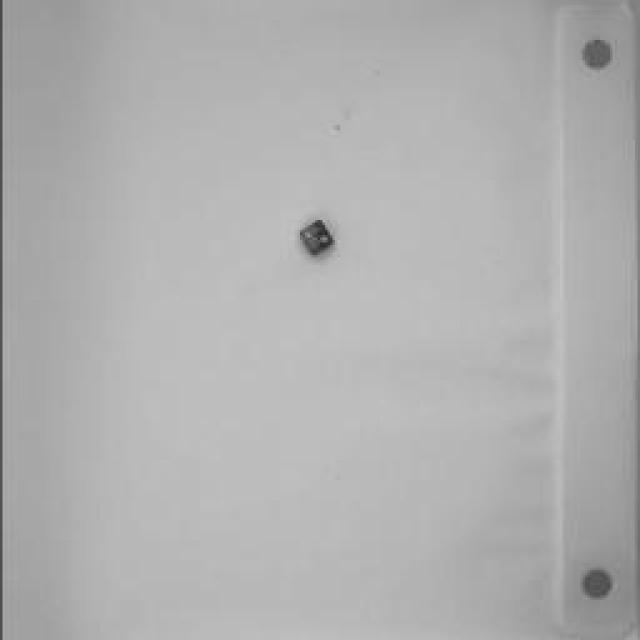dice_2: (294, 216, 338, 254)
